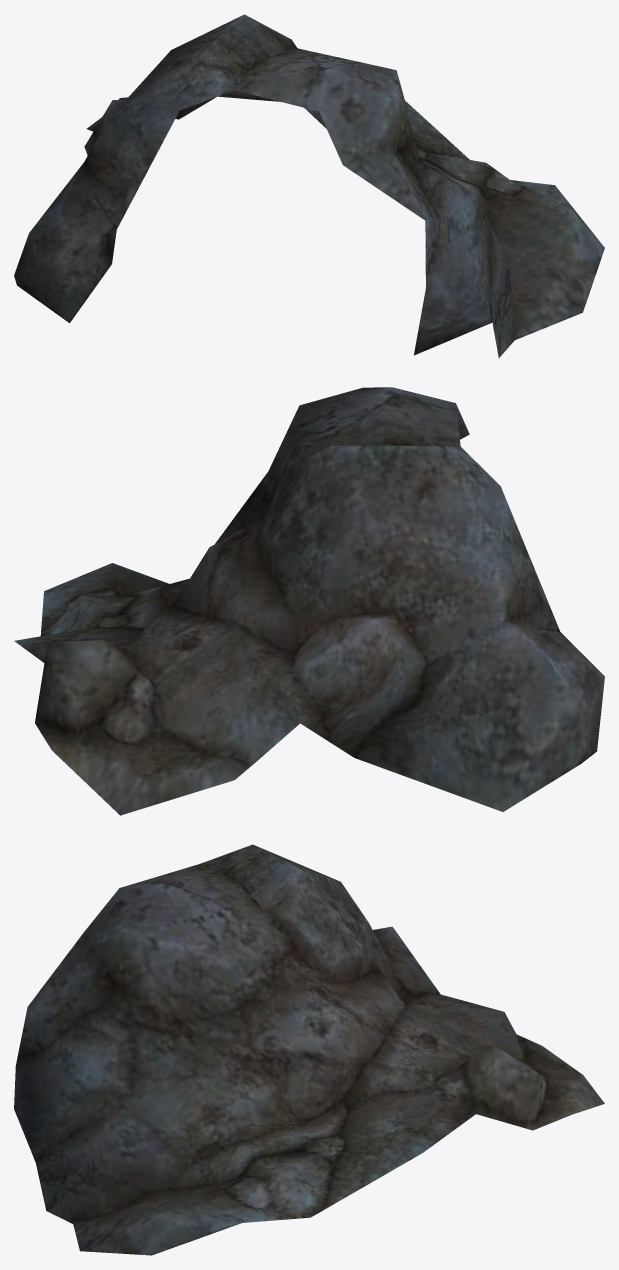
The model's file is S_Rock_Yellow034_H29.FBX.
The picture shows the model from 3 angles, top to bottom: view 1: azimuth 30°, elevation 25°; view 2: azimuth 150°, elevation 25°; view 3: azimuth 270°, elevation 25°; orthographic projection. The views are drawn at different scales.
Parts seen in each view (by area): view 1: S_Rock_Yellow034_H29; view 2: S_Rock_Yellow034_H29; view 3: S_Rock_Yellow034_H29.
Boxes of the visible parts, box(x1,y1,x2,y2) form: S_Rock_Yellow034_H29: box(14, 14, 604, 357); S_Rock_Yellow034_H29: box(14, 387, 604, 815); S_Rock_Yellow034_H29: box(14, 844, 604, 1255).
Size of the model in its own units: 971 by 984 by 513.
Materials: 1 (1 with a texture image).
